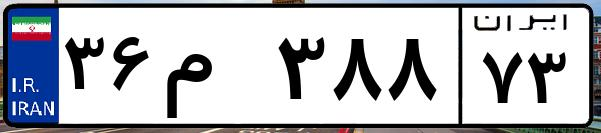3: (270, 28, 330, 110), (57, 26, 110, 100), (525, 38, 570, 115)
6: (110, 28, 158, 98)
7: (475, 38, 525, 113)
8: (385, 28, 445, 110), (330, 28, 385, 110)
م: (158, 20, 270, 120)
